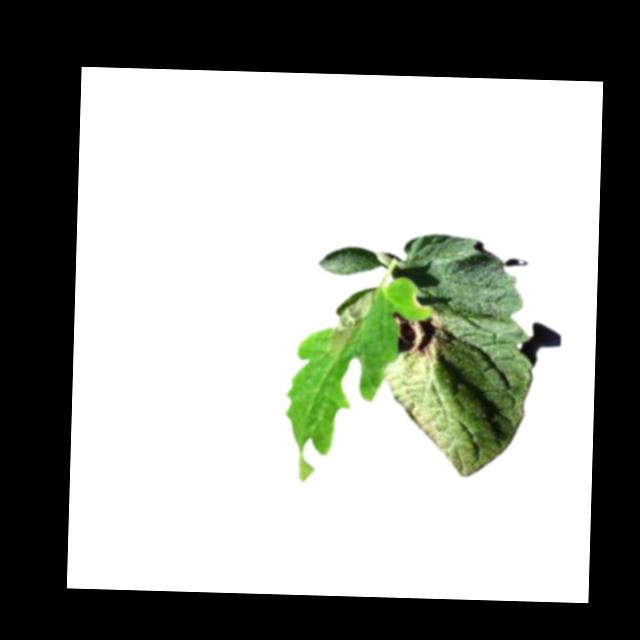Late_blight: (327, 287, 379, 358), (390, 312, 443, 360)
